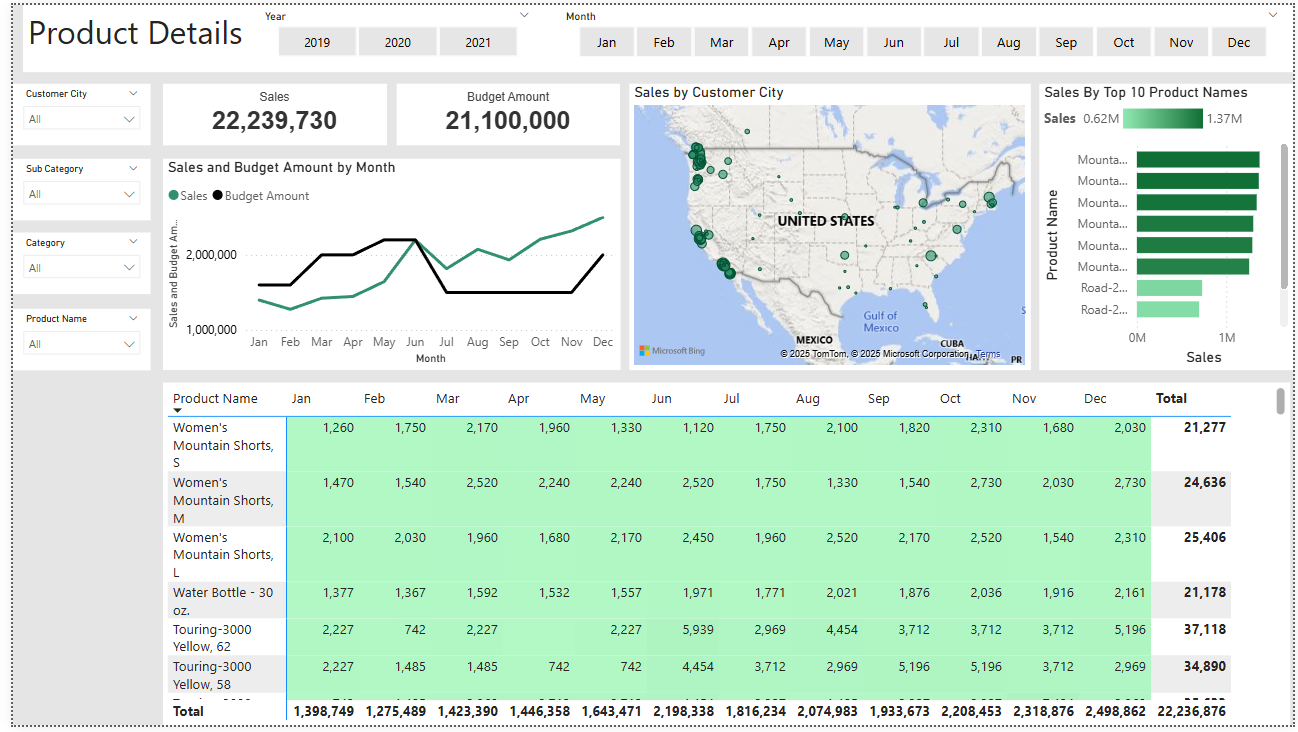

Layout of this report page (visuals, bound fields, positions):
{"tool":"powerbi","page":{"name":"PRODUCT DETAILS","canvas":[1280,720],"ordinal":1},"visuals":[{"type":"textbox","box":[10,0,1270,67.5],"z":0},{"type":"slicer","fields":{"Values":["DIM_Calendar.Date.Variation.Date Hierarchy.Year"]},"box":[238.6,0,290,58.6],"z":1000},{"type":"slicer","fields":{"Values":["DIM_Calendar.MonthShort"]},"box":[540,0,737.5,58.8],"z":2000},{"type":"slicer","fields":{"Values":["DIM_Customers.Customer City"]},"box":[0,78.2,137.2,61.7],"z":3000},{"type":"slicer","fields":{"Values":["DIM_Products.Sub Category"]},"box":[0,153.7,137.2,61.7],"z":4000},{"type":"slicer","fields":{"Values":["DIM_Products.Product Category"]},"box":[0,227.8,137.2,61.7],"z":5000},{"type":"slicer","fields":{"Values":["DIM_Products.Product Name"]},"box":[0,303.3,137.2,61.7],"z":6000},{"type":"BBED0A4D4D8D44CE93CF2DAFADEE466C","fields":{"actual":["Key Measures.Sales"]},"box":[150,78.8,223.8,61.2],"z":7000},{"type":"map","fields":{"Category":["DIM_Customers.Customer City"],"Size":["Key Measures.Sales"]},"box":[616.2,78.8,401.2,286.2],"z":8000},{"type":"BBED0A4D4D8D44CE93CF2DAFADEE466C","fields":{"actual":["Key Measures.Budget Amount"]},"box":[384.3,78.6,222.9,61.4],"z":9000},{"type":"lineChart","fields":{"Y":["Key Measures.Sales","Key Measures.Budget Amount"],"Category":["DIM_Calendar.MonthShort"]},"box":[150,153.8,457.5,211.2],"z":10000},{"type":"barChart","title":"Sales By Top 10 Product Names","fields":{"Y":["Key Measures.Sales"],"Category":["DIM_Products.Product Name"]},"box":[1026,79,254,286],"z":11000},{"type":"pivotTable","fields":{"Rows":["DIM_Products.Product Name"],"Columns":["DIM_Calendar.MonthShort"],"Values":["Key Measures.Sales"]},"box":[150,377.1,1127.1,342.9],"z":12000}]}

Visuals, with their boxes in screenshot pixels (x1, y1, x2, y2), scaled from the page's 1280x720 canvas onto the 1298x732 screenshot:
textbox: <bbox>10, 0, 1297, 69</bbox>
slicer - DIM_Calendar.Date.Variation.Date Hierarchy.Year: <bbox>242, 0, 536, 60</bbox>
slicer - DIM_Calendar.MonthShort: <bbox>548, 0, 1295, 60</bbox>
slicer - DIM_Customers.Customer City: <bbox>0, 80, 139, 142</bbox>
slicer - DIM_Products.Sub Category: <bbox>0, 156, 139, 219</bbox>
slicer - DIM_Products.Product Category: <bbox>0, 232, 139, 294</bbox>
slicer - DIM_Products.Product Name: <bbox>0, 308, 139, 371</bbox>
BBED0A4D4D8D44CE93CF2DAFADEE466C - Key Measures.Sales: <bbox>152, 80, 379, 142</bbox>
map - DIM_Customers.Customer City x Key Measures.Sales: <bbox>625, 80, 1032, 371</bbox>
BBED0A4D4D8D44CE93CF2DAFADEE466C - Key Measures.Budget Amount: <bbox>390, 80, 616, 142</bbox>
lineChart - Key Measures.Sales x Key Measures.Budget Amount: <bbox>152, 156, 616, 371</bbox>
"Sales By Top 10 Product Names" barChart: <bbox>1040, 80, 1297, 371</bbox>
pivotTable - DIM_Products.Product Name x DIM_Calendar.MonthShort: <bbox>152, 383, 1295, 731</bbox>
